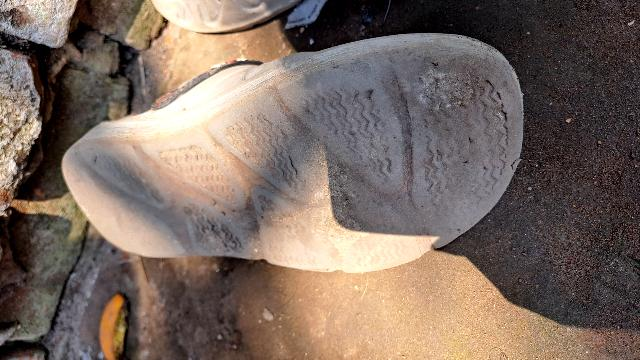sandal: (62, 0, 528, 360)
